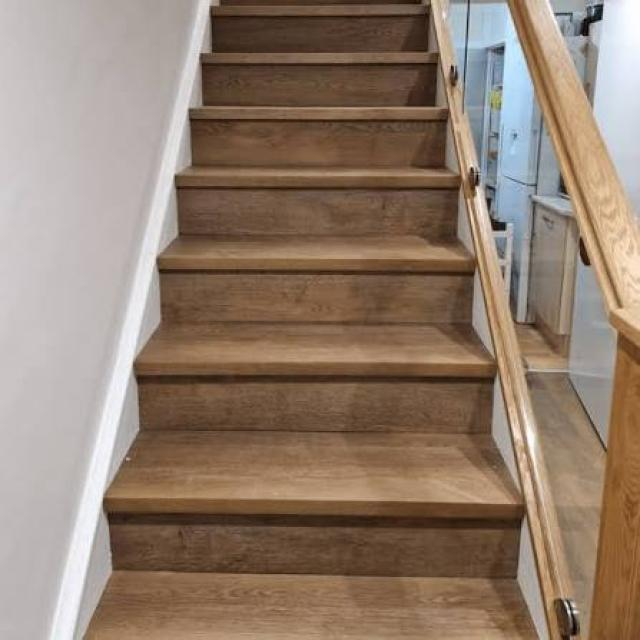Stairs: (30, 0, 639, 637)
